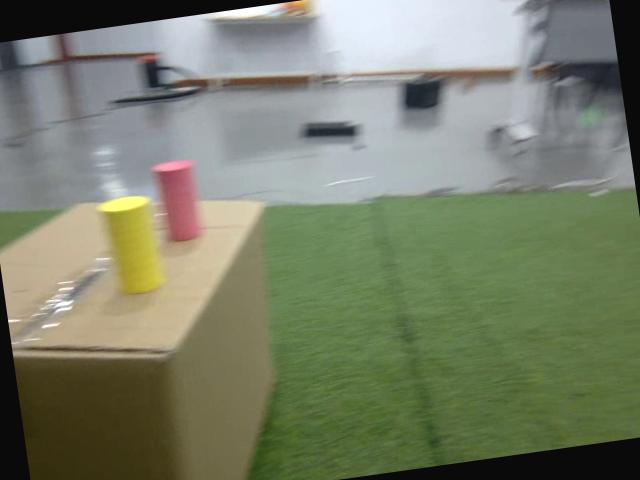red_cylinder: (148, 154, 205, 246)
yellow_cylinder: (93, 189, 170, 299)
